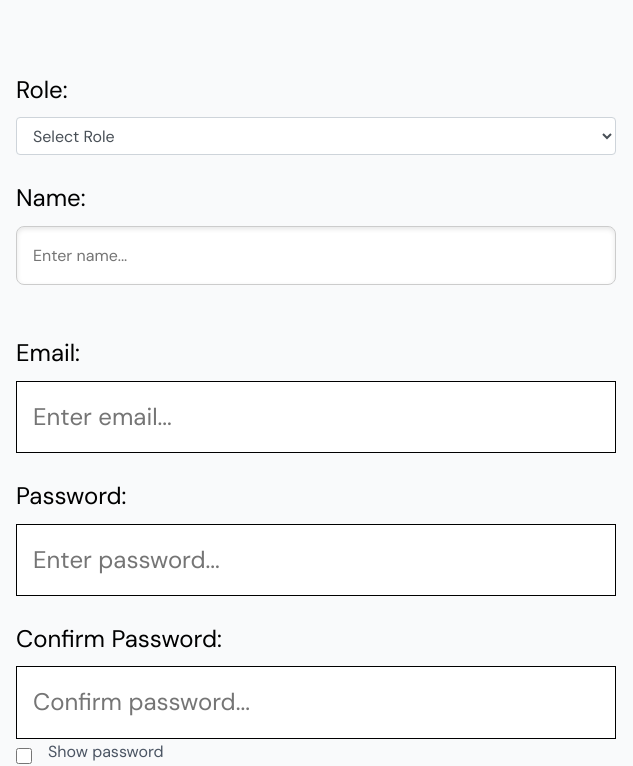
Test: Register Component › unsuccessful registration with invalid instructor key
Type "John Doe" into the field with placeholder "Enter name..." at (316, 256), box [16,226,616,285]
Type "john.doe@gmail.com" into the field with placeholder "Enter email..." at (316, 417), box [16,381,616,453]
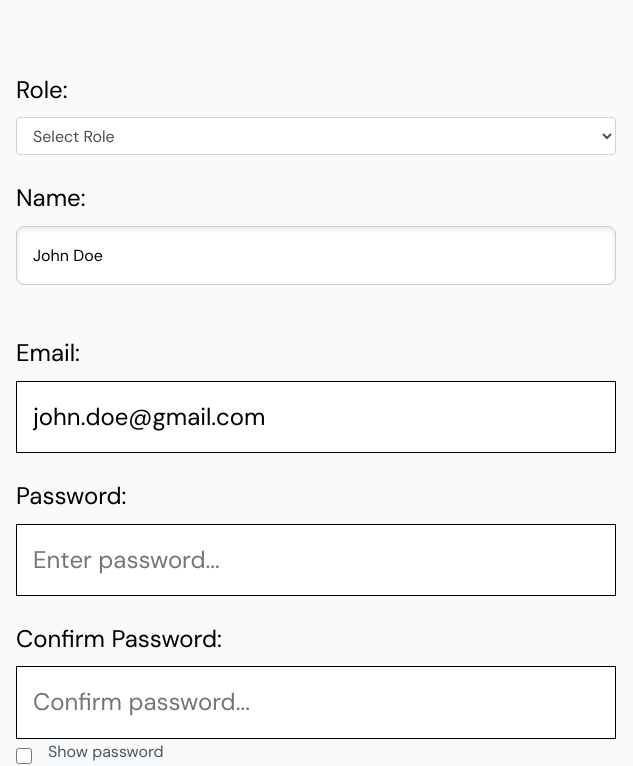
Type "password123" into the password field with placeholder "Enter password..." at (316, 560), box [16,524,616,596]
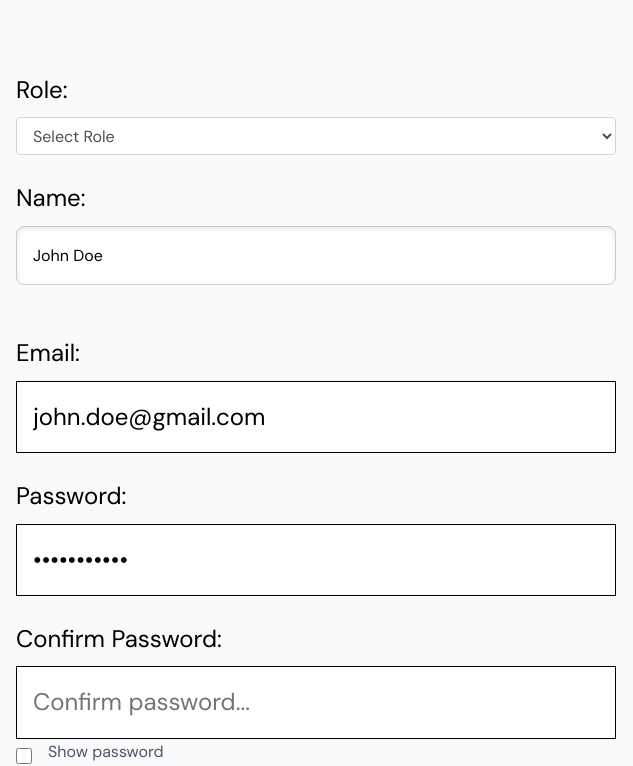
Type "password123" into the password field with placeholder "Confirm password..." at (316, 702), box [16,666,616,739]
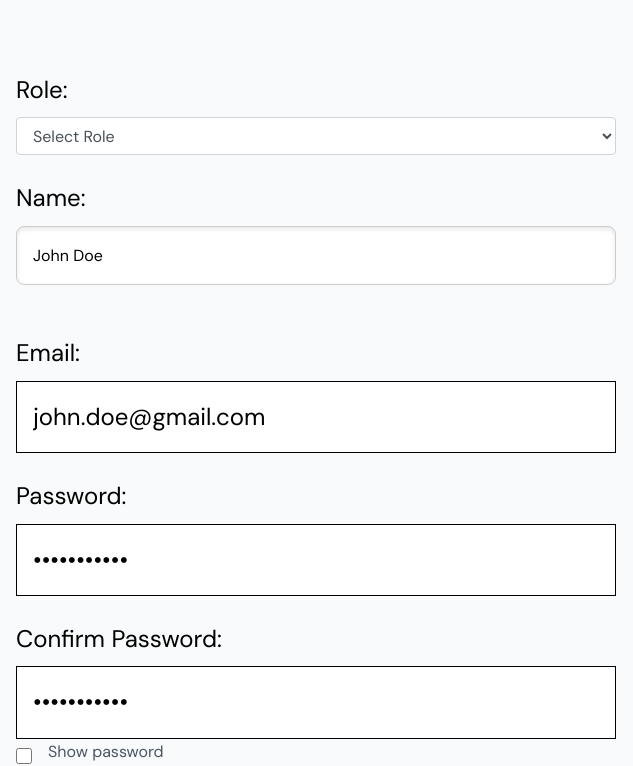
Select "Instructor" in the dropdown labelled "Role:" at (316, 136), box [16,117,616,155]
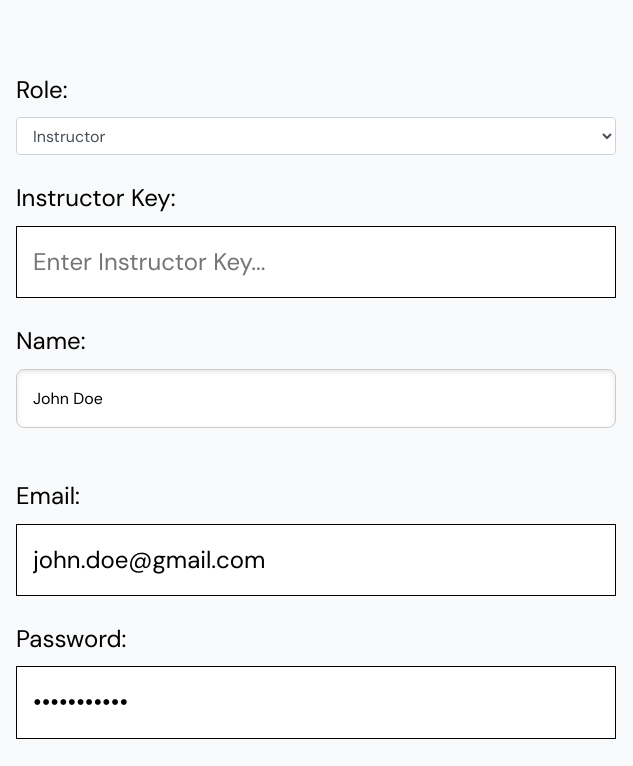
Type "WRONGKEY" into the password field with placeholder "Enter Instructor Key..." at (316, 262), box [16,226,616,298]
(page scrolled)
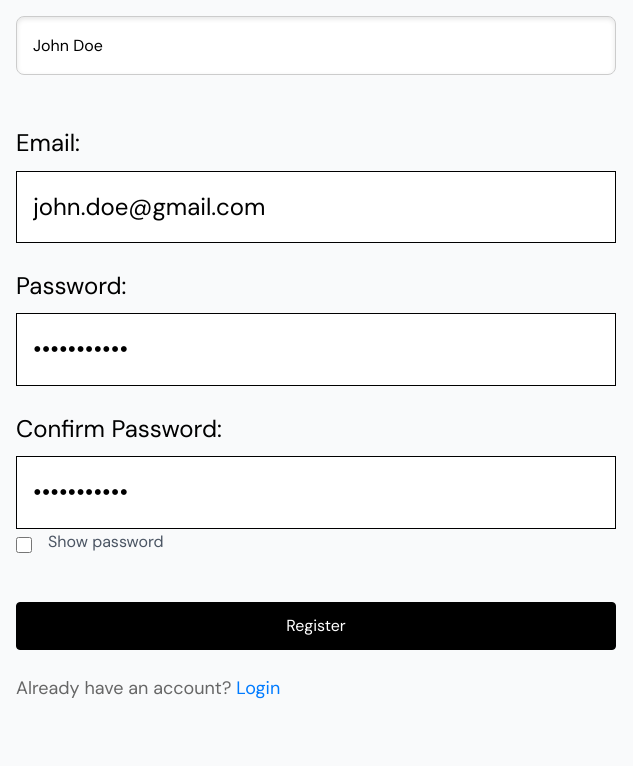
Click the button "Register" at (316, 626), box [16,602,616,650]
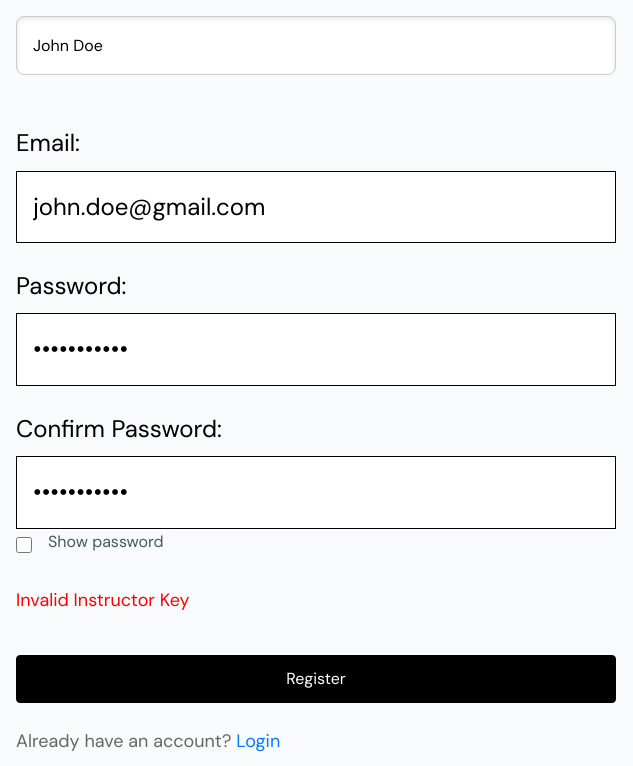
Check: the text "Invalid Instructor Key" is shown, box [16,586,616,615]
